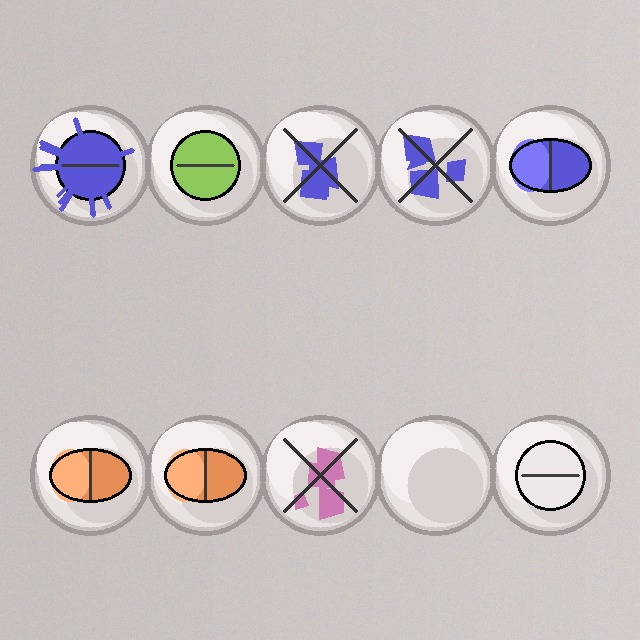broken: (258, 103, 382, 227), (373, 103, 497, 227), (258, 413, 382, 537)
flash: (28, 103, 152, 227)
missing: (373, 413, 497, 537)
